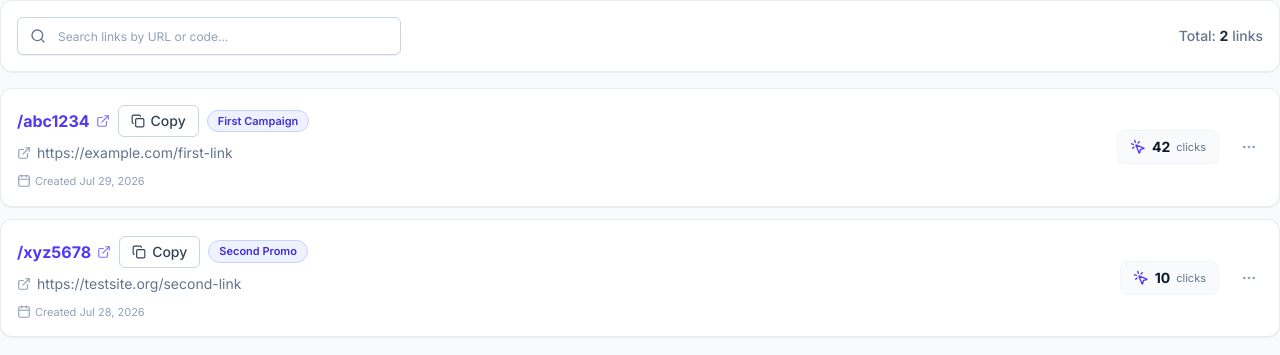
Test: LinkTable › filters links based on search query
Type "first-link" into the field with placeholder "Search links by URL or code..." at (209, 36), box [30, 18, 388, 54]
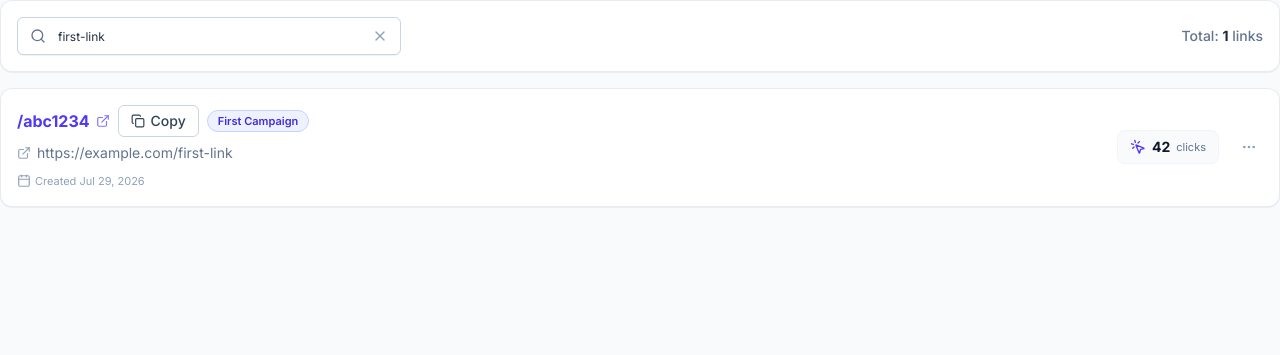
Check: the text "/abc1234" is shown, box [17, 109, 90, 133]
Check: the link "/xyz5678" is gone
